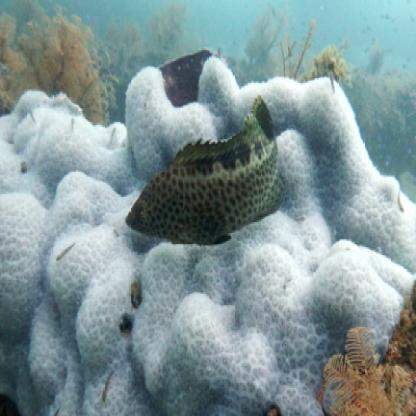Serranidae -Groupers-: (124, 96, 288, 256)
